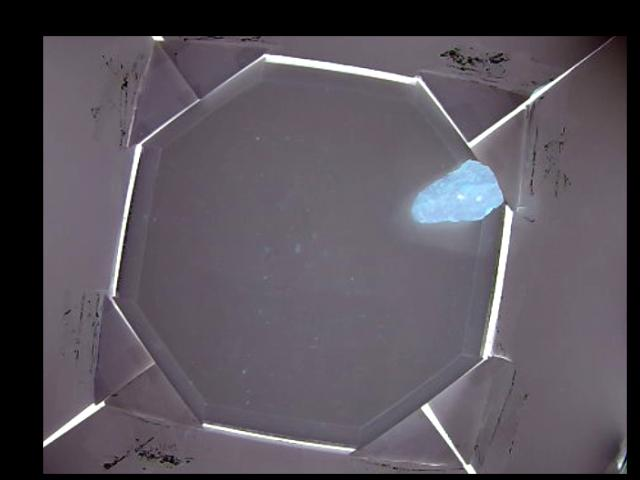Brisk: (412, 160, 504, 223)
